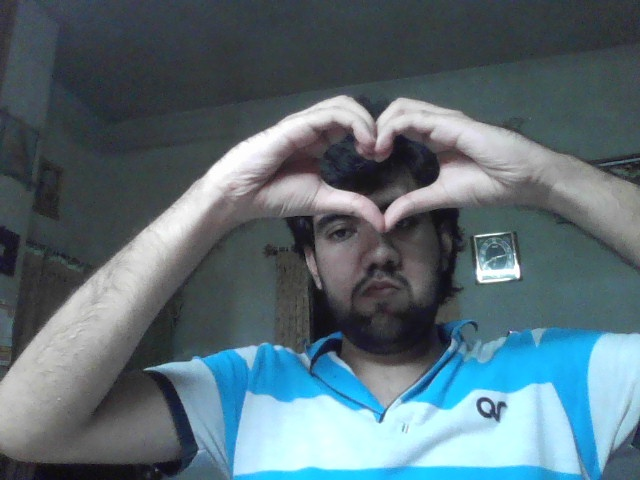Love: (232, 95, 518, 231)
